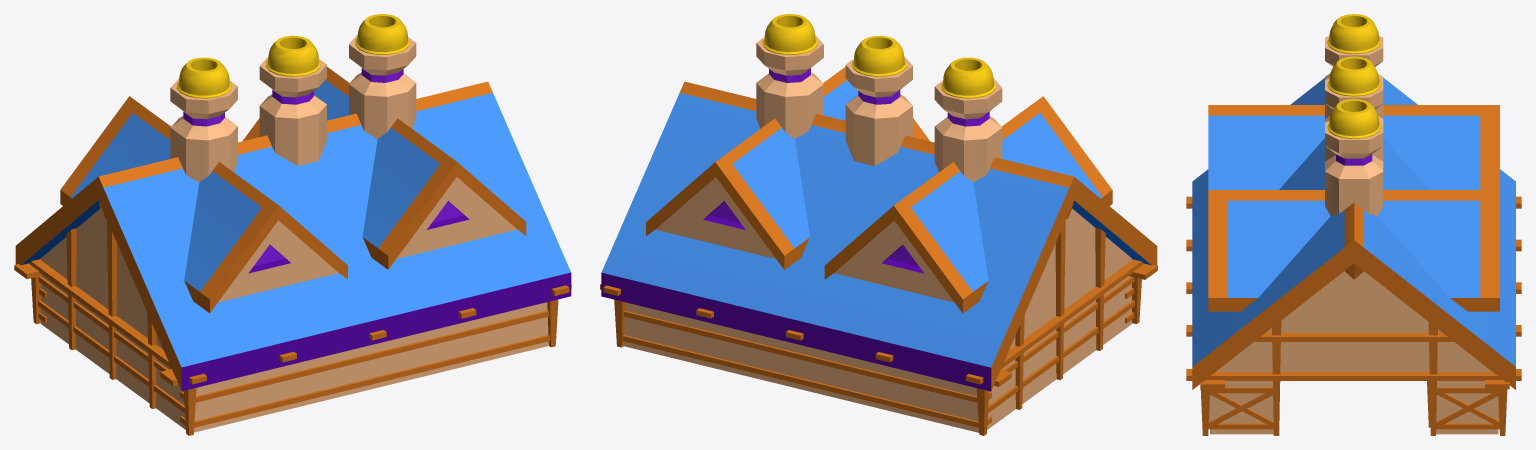
Rendered from House.fbx.
3 views of the same model, side by side, from view 1: azimuth 30°, elevation 25°; view 2: azimuth 150°, elevation 25°; view 3: azimuth 270°, elevation 25° (orthographic). The views are drawn at different scales.
Parts seen in each view (by area): view 1: House_LOD0; view 2: House_LOD0; view 3: House_LOD0.
Part boxes in pixels (x1=…): House_LOD0: x1=14, y1=14, x2=571, y2=435; House_LOD0: x1=600, y1=14, x2=1157, y2=435; House_LOD0: x1=1186, y1=14, x2=1521, y2=435.
Size of what is drawn, in the model's own units: 35.85 by 25.02 by 26.79.
